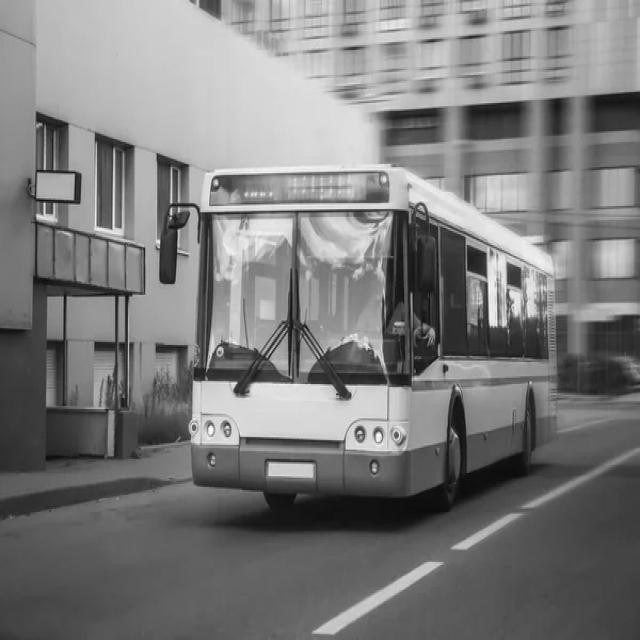Bus: (190, 169, 558, 511)
